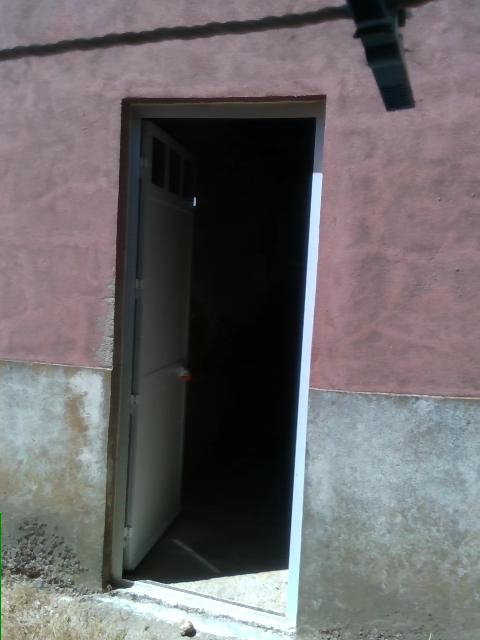open_door: (107, 94, 328, 635)
